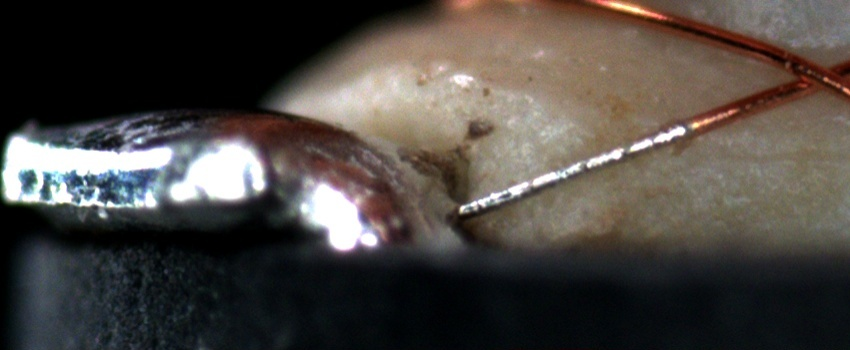CL: (770, 48, 848, 100)
DL: (647, 129, 850, 187)
TS: (456, 123, 690, 216)
